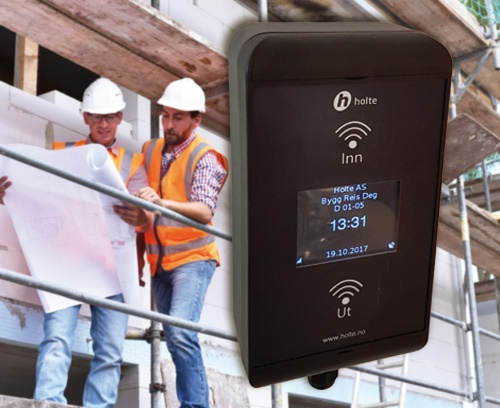white: (81, 77, 125, 146), (159, 79, 203, 142)
